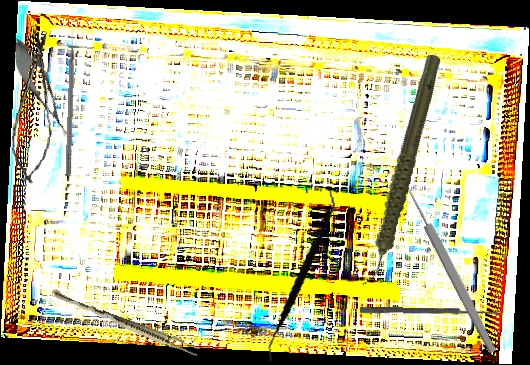Handpiece: (313, 50, 487, 290)
Hook Surgical: (65, 28, 78, 177)
Micro Scissor: (2, 31, 80, 144), (8, 28, 60, 188)
Spatula Surgical: (243, 189, 358, 363)
Surgical Spoon: (395, 169, 499, 355), (359, 306, 504, 317)
Tissue Forceps: (48, 288, 202, 358)
